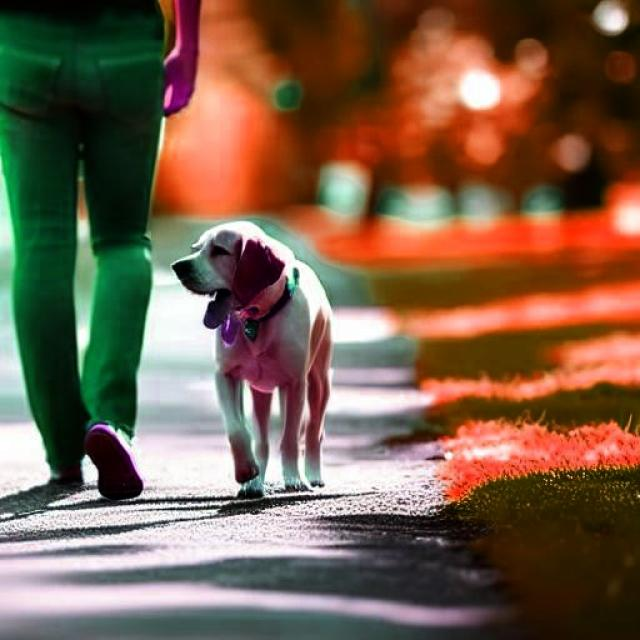Unleashed_Dog: (0, 16, 332, 499)
